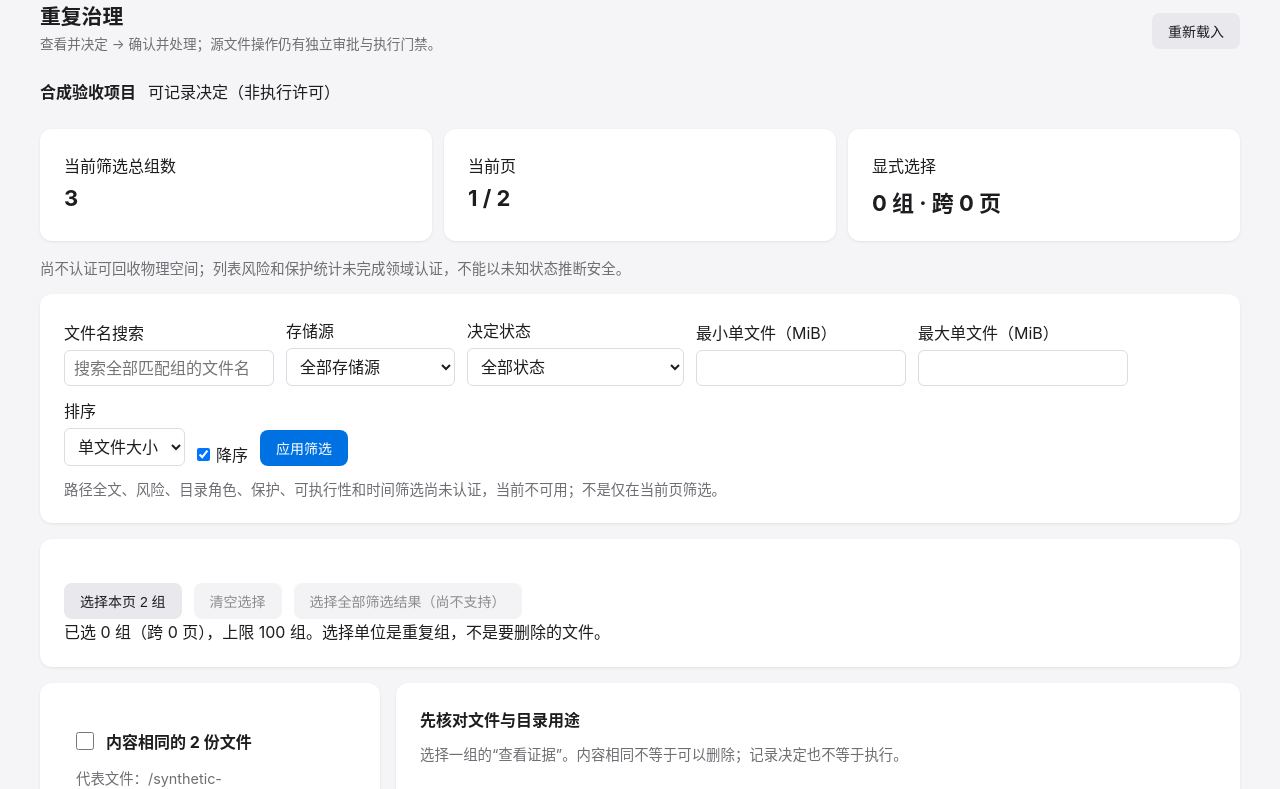
governance workbench selection and records-only flow › keeps unsuccessful selections and reports per-item outcomes instead of total success
This screenshot has width=1280, height=789.
Click the button "选择本页 2 组" at {"x": 123, "y": 601}, box [64,583,182,619]
(page scrolled)
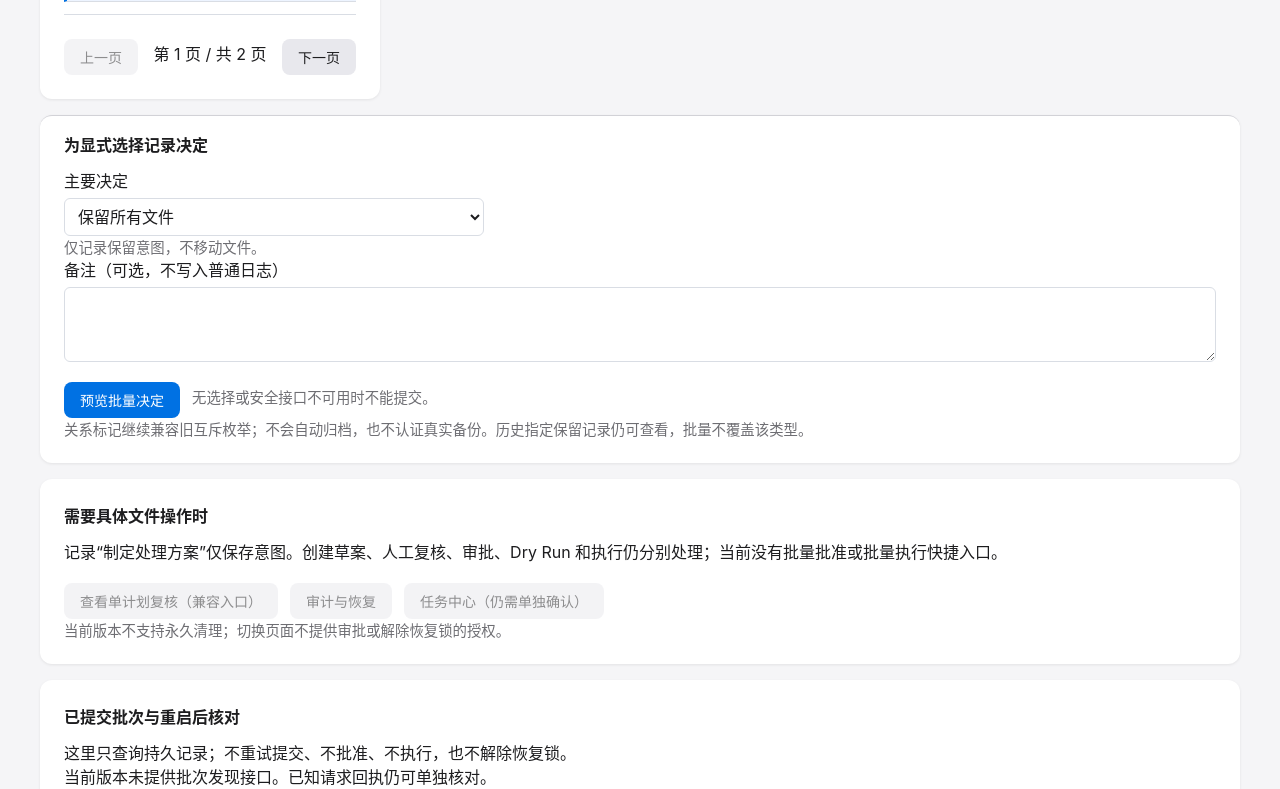
Click the button "预览批量决定" at {"x": 122, "y": 400}, box [64,382,180,418]
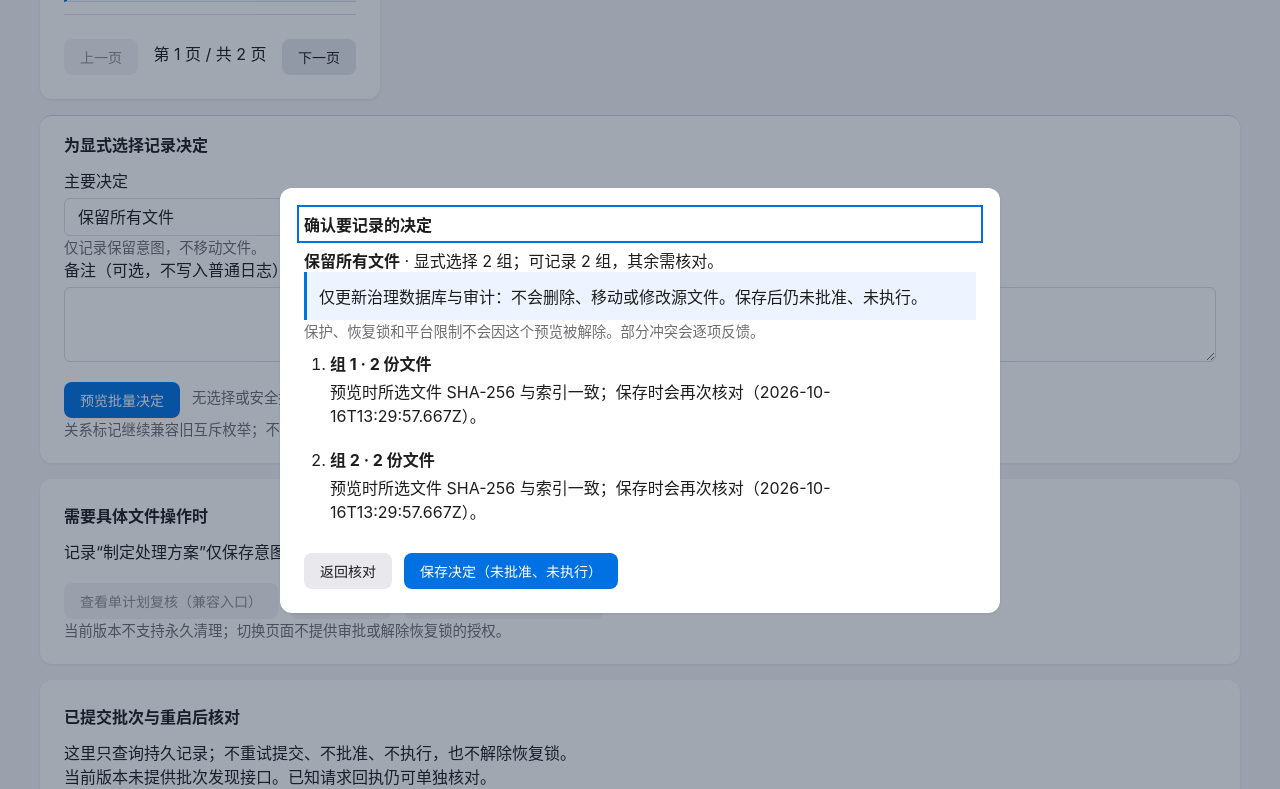
Check: the dialog is shown, box [280,188,1000,612]
Click the button "保存决定（未批准、未执行）" at {"x": 511, "y": 570}, box [404,552,618,588]
(page scrolled)
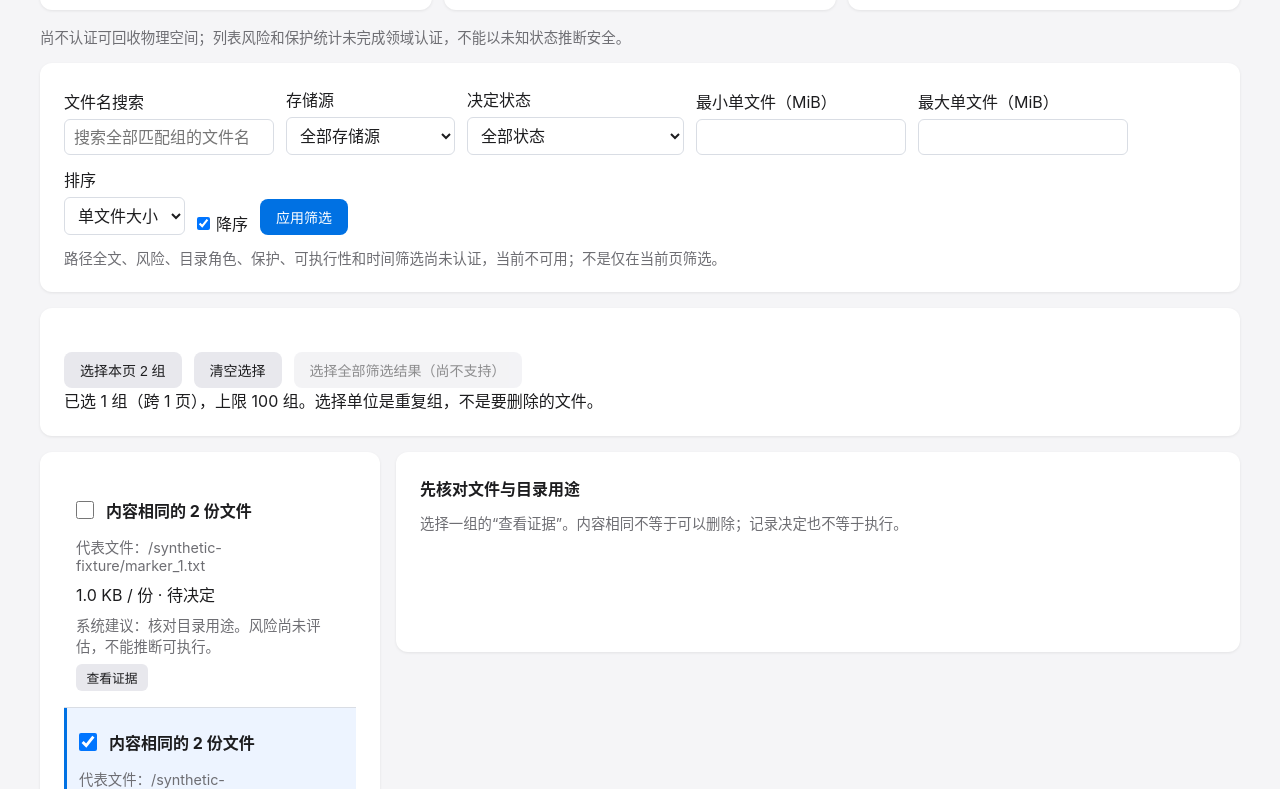
Check: the checkbox named "选择本页第 2 组" is checked, box [79,733,97,751]
Check: the checkbox named "选择本页第 1 组" is not checked, box [76,501,94,519]
Check: the text "已选 1 组（跨 1 页），上限 100 组。选择单位是重复组，不是要删除的文件。" is shown, box [64,391,603,411]
